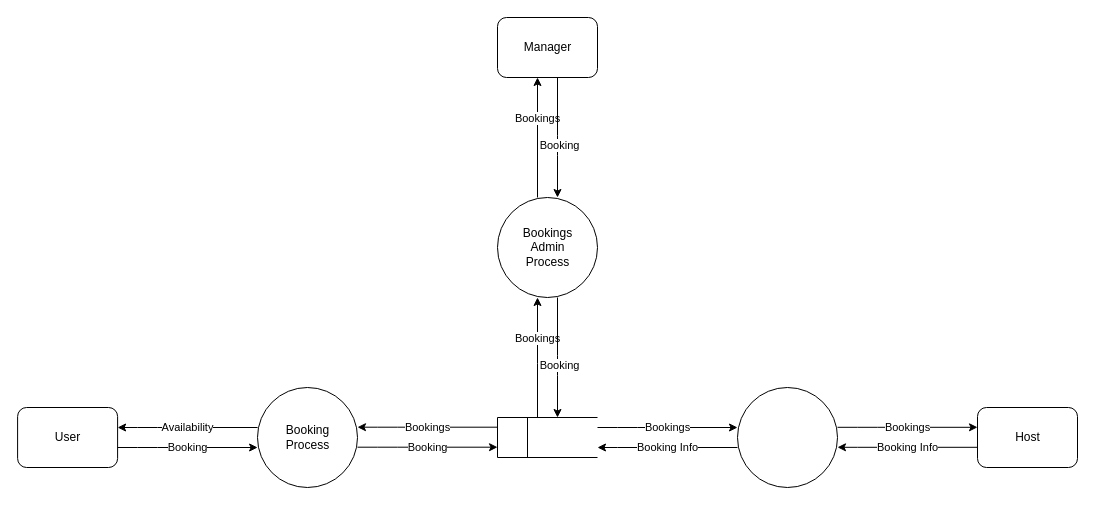
Some shapes in this 1095 by 505 pixel diagram are drawn without their labels. Here are the shapes that lost their labels. From the top down, the box of each, then its label:
(496, 416, 598, 458): 1 Bookings
(736, 386, 838, 488): Seating Process
